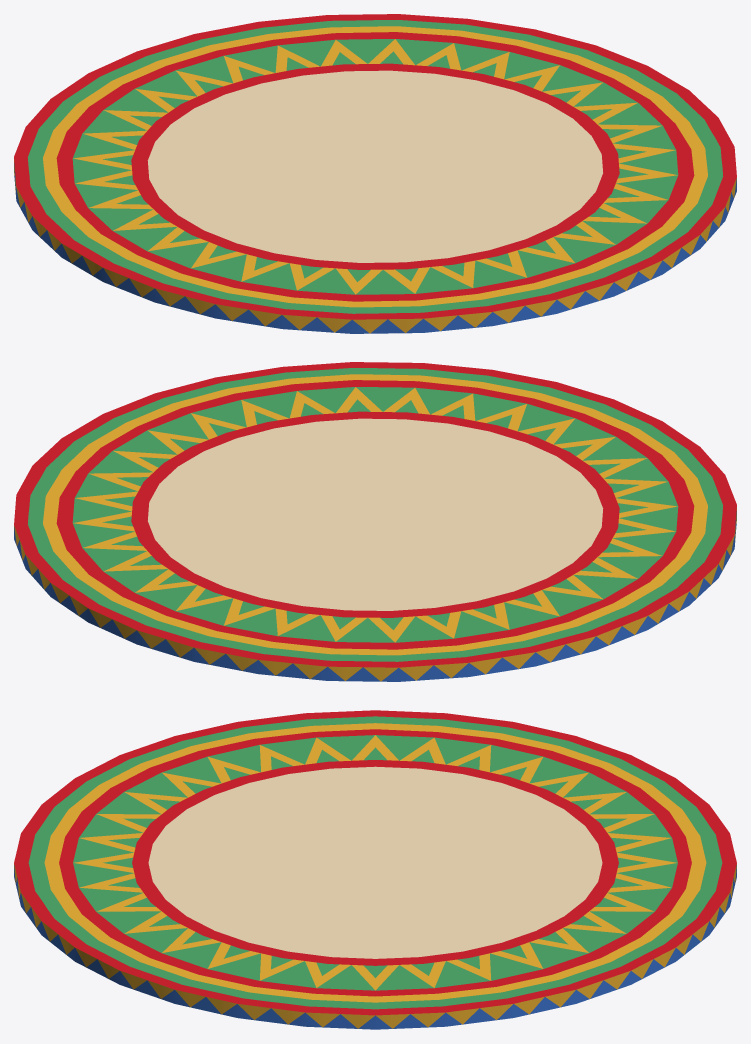
File: Stage_00.FBX
The picture shows the model from 3 angles, top to bottom: view 1: azimuth 30°, elevation 25°; view 2: azimuth 150°, elevation 25°; view 3: azimuth 270°, elevation 25°; orthographic projection.
Visible parts, largest first — view 1: Stage_00; view 2: Stage_00; view 3: Stage_00.
Boxes of the visible parts, bbox=[...] form: Stage_00: bbox=[14, 14, 736, 333]; Stage_00: bbox=[14, 362, 736, 681]; Stage_00: bbox=[14, 710, 736, 1029].
Bounding box in the file's own units: 22.95 × 0.5 × 22.98.
